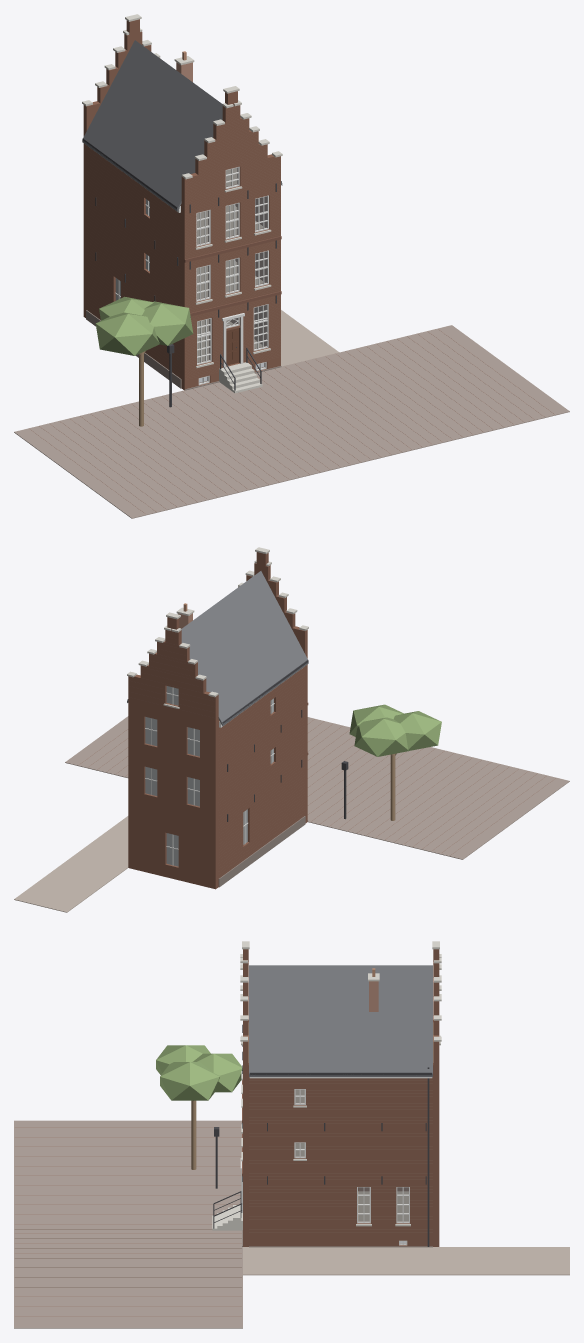
Rendered from clay-step-gable-canal-house-clay-v002.glb.
3 views of the same model, one above another, from view 1: azimuth 30°, elevation 25°; view 2: azimuth 150°, elevation 25°; view 3: azimuth 270°, elevation 25° (orthographic). The views are drawn at different scales.
Parts seen in each view (by area): view 1: CLAY_SETTS, CLAY_WALL, CLAY_ROOF, CLAY_JOINT, CLAY_PLANTING, CLAY_TRIM, CLAY_GLASS, CLAY_STONE, CLAY_PAVING, CLAY_FLOOR, CLAY_HARDWARE, CLAY_BAND (+1 smaller); view 2: CLAY_WALL, CLAY_SETTS, CLAY_ROOF, CLAY_PAVING, CLAY_PLANTING, CLAY_TRIM, CLAY_GLASS, CLAY_JOINT, CLAY_STONE, CLAY_FOUNDATION, CLAY_HARDWARE; view 3: CLAY_SETTS, CLAY_WALL, CLAY_ROOF, CLAY_JOINT, CLAY_PAVING, CLAY_PLANTING, CLAY_HARDWARE, CLAY_STONE, CLAY_GLASS, CLAY_FLOOR, CLAY_TRIM.
Boxes of the visible parts, x1,y1,x2,y2 form: CLAY_SETTS: (14, 325, 569, 518); CLAY_WALL: (83, 19, 280, 390); CLAY_ROOF: (82, 40, 282, 211); CLAY_JOINT: (29, 108, 554, 513); CLAY_PLANTING: (95, 296, 193, 355); CLAY_TRIM: (115, 166, 268, 385); CLAY_GLASS: (115, 167, 266, 383); CLAY_STONE: (82, 14, 282, 393); CLAY_PAVING: (281, 310, 339, 366); CLAY_FLOOR: (197, 168, 262, 362); CLAY_HARDWARE: (82, 138, 281, 407); CLAY_BAND: (184, 236, 281, 316); CLAY_WALL: (128, 552, 307, 889); CLAY_SETTS: (65, 716, 569, 859); CLAY_ROOF: (127, 571, 308, 726); CLAY_PAVING: (14, 816, 128, 912); CLAY_PLANTING: (349, 704, 441, 756); CLAY_TRIM: (145, 686, 274, 866); CLAY_GLASS: (145, 686, 273, 866); CLAY_JOINT: (79, 644, 555, 855); CLAY_STONE: (127, 547, 308, 708); CLAY_FOUNDATION: (218, 816, 307, 887); CLAY_HARDWARE: (127, 660, 348, 821); CLAY_SETTS: (14, 1120, 242, 1328); CLAY_WALL: (243, 949, 439, 1246); CLAY_ROOF: (249, 965, 432, 1076); CLAY_JOINT: (15, 1077, 432, 1316); CLAY_PAVING: (243, 1247, 569, 1275); CLAY_PLANTING: (156, 1045, 242, 1100); CLAY_HARDWARE: (213, 1024, 432, 1246); CLAY_STONE: (212, 941, 441, 1230); CLAY_GLASS: (295, 1089, 408, 1243); CLAY_FLOOR: (248, 1022, 433, 1221); CLAY_TRIM: (294, 1089, 409, 1245).
Bounding box in the file's own units: 30 × 18.92 × 34.
